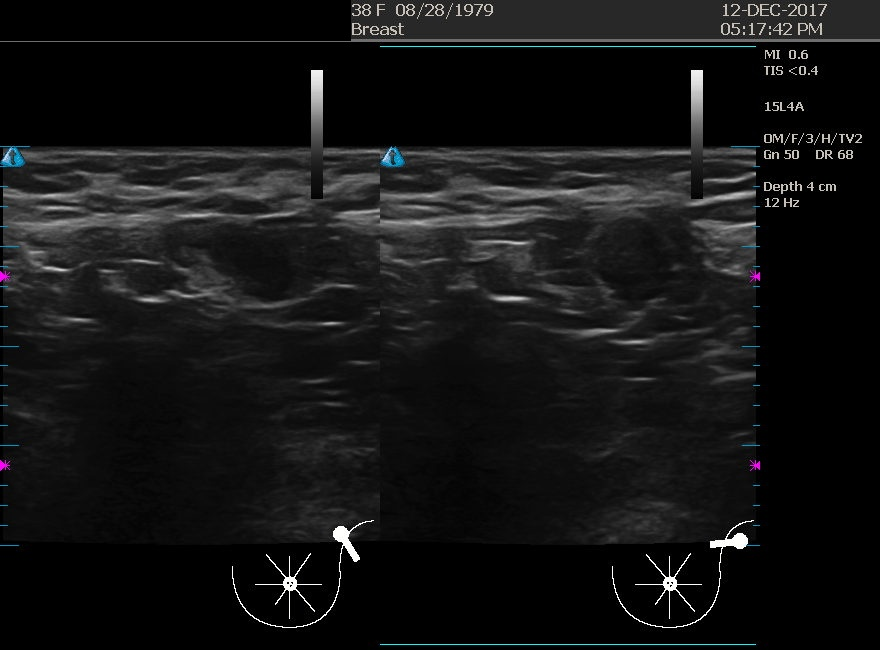BIRADS_4: (134, 207, 334, 407), (540, 200, 740, 400)
